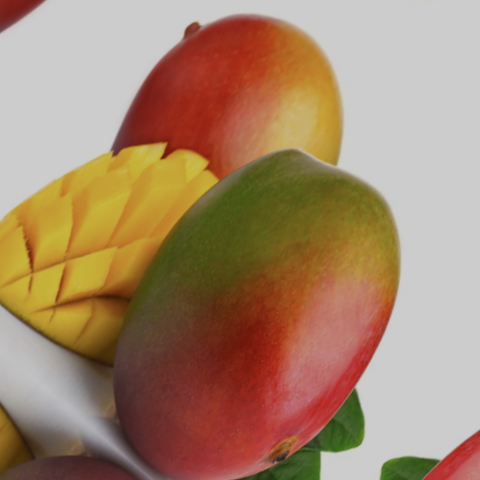mango: (31, 91, 480, 480), (34, 0, 423, 339)
